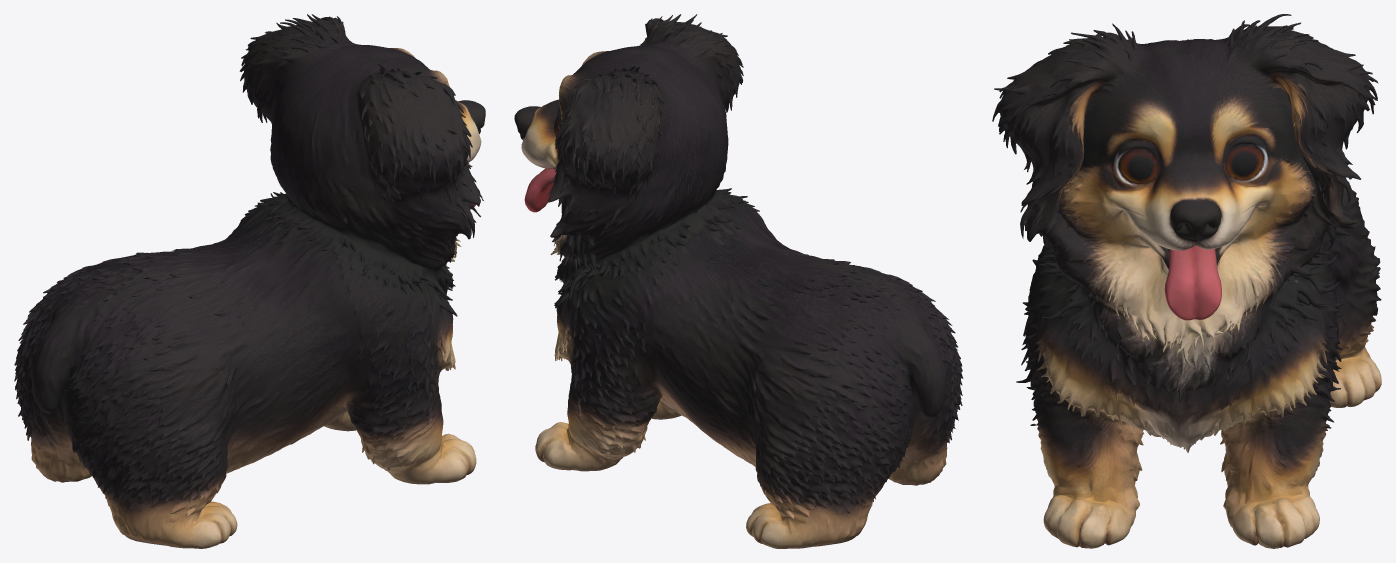
The model's file is Brisa.glb.
3 renders of one model, left to right at view 1: azimuth 30°, elevation 25°; view 2: azimuth 150°, elevation 25°; view 3: azimuth 270°, elevation 25°, orthographic. The views are drawn at different scales.
Visible parts, largest first — view 1: tripo_node_9032892c-37be-4c19-a6af-920eae8b3101; view 2: tripo_node_9032892c-37be-4c19-a6af-920eae8b3101; view 3: tripo_node_9032892c-37be-4c19-a6af-920eae8b3101.
Boxes of the visible parts, x1=… form: tripo_node_9032892c-37be-4c19-a6af-920eae8b3101: x1=14, y1=14, x2=485, y2=548; tripo_node_9032892c-37be-4c19-a6af-920eae8b3101: x1=514, y1=14, x2=963, y2=548; tripo_node_9032892c-37be-4c19-a6af-920eae8b3101: x1=992, y1=14, x2=1381, y2=548.
Bounding box in the file's own units: 1 × 0.8822 × 0.6457.
1 material, 1 textured.
